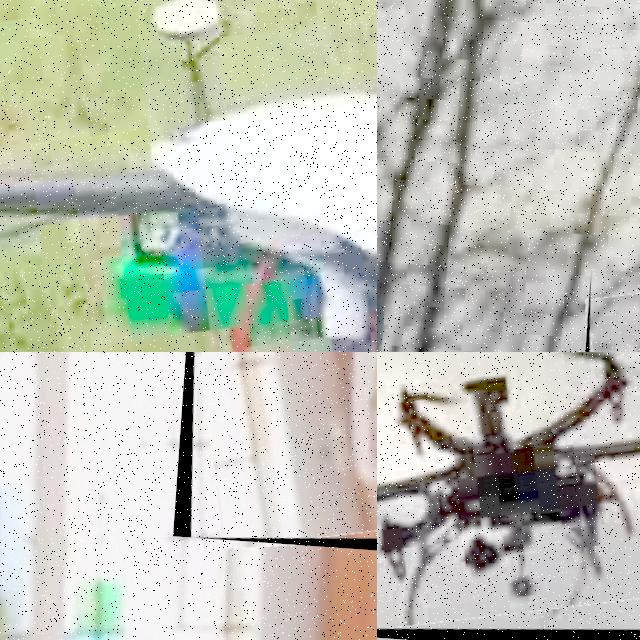0: (0, 0, 377, 352), (377, 352, 640, 640)
drone: (172, 352, 377, 562)
